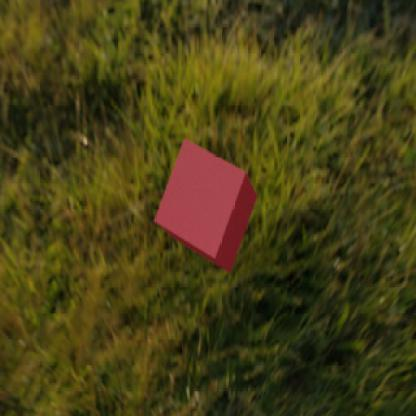cube: (154, 137, 258, 274)
